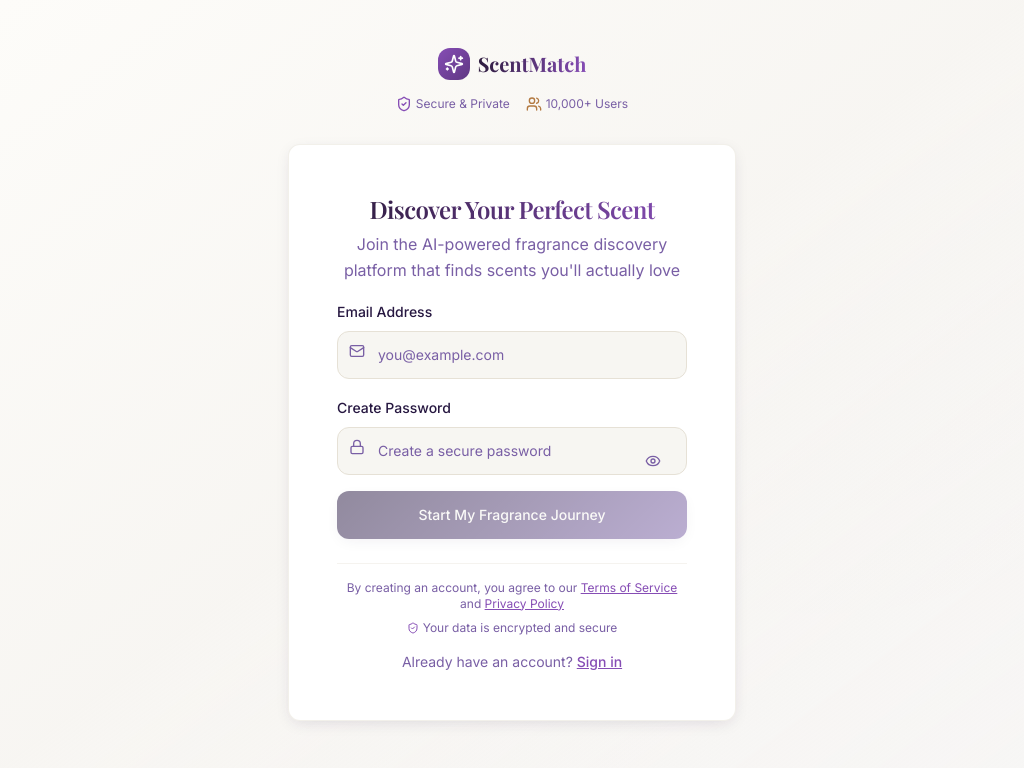
Authentication Integration - Final Validation › 1. Complete User Registration Flow › progressive form validation guides user to success
Expected: the button "Start My Fragrance Journey" is disabled, [337,490,687,538]
Invalid email shows helpful guidance
Type "invalid" into the field labelled "Email Address".
click(512, 354); type("invalid")  # box [337,330,687,378]
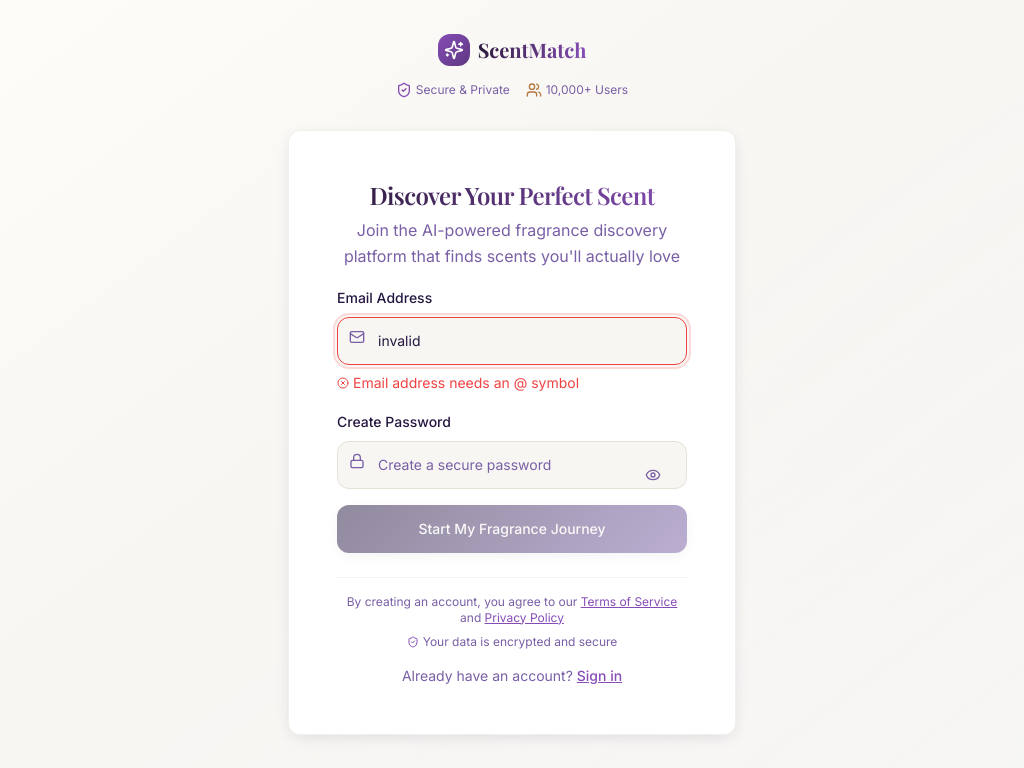
Now the text "Email address needs an @ symbol" is shown, box [353,372,579,392]
Improving email shows progression
Clear the field labelled "Email Address" at {"x": 512, "y": 340}, box [337,316,687,364]
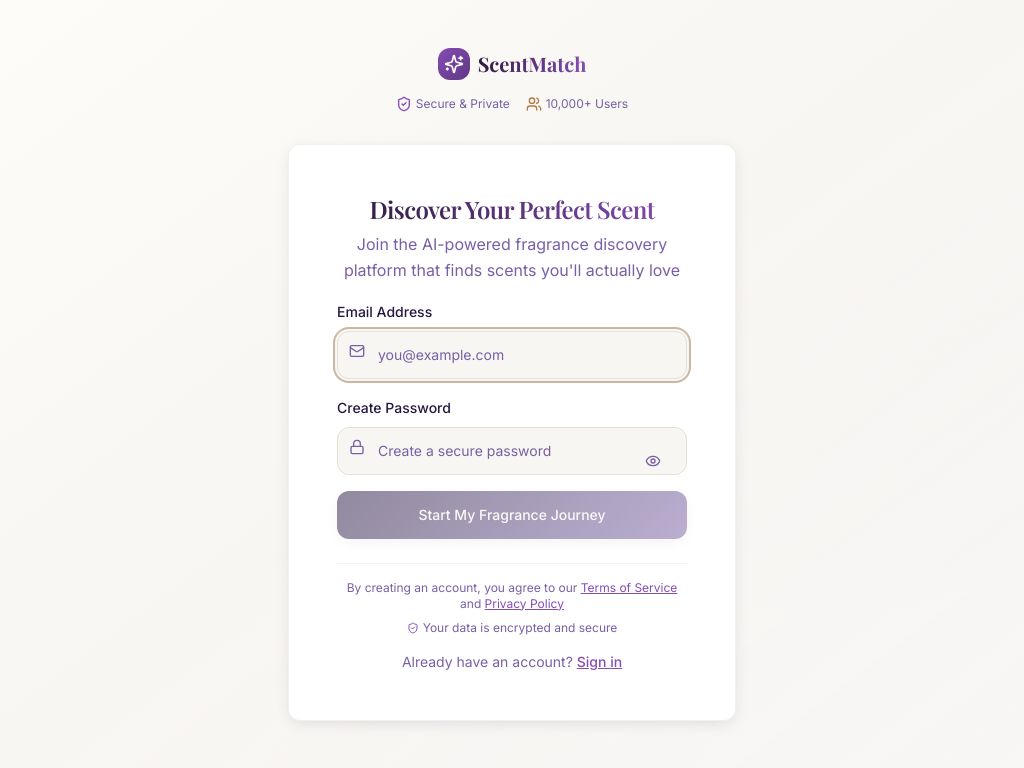
Type "invalid@" into the field labelled "Email Address".
click(512, 354); type("invalid@")  # box [337,330,687,378]
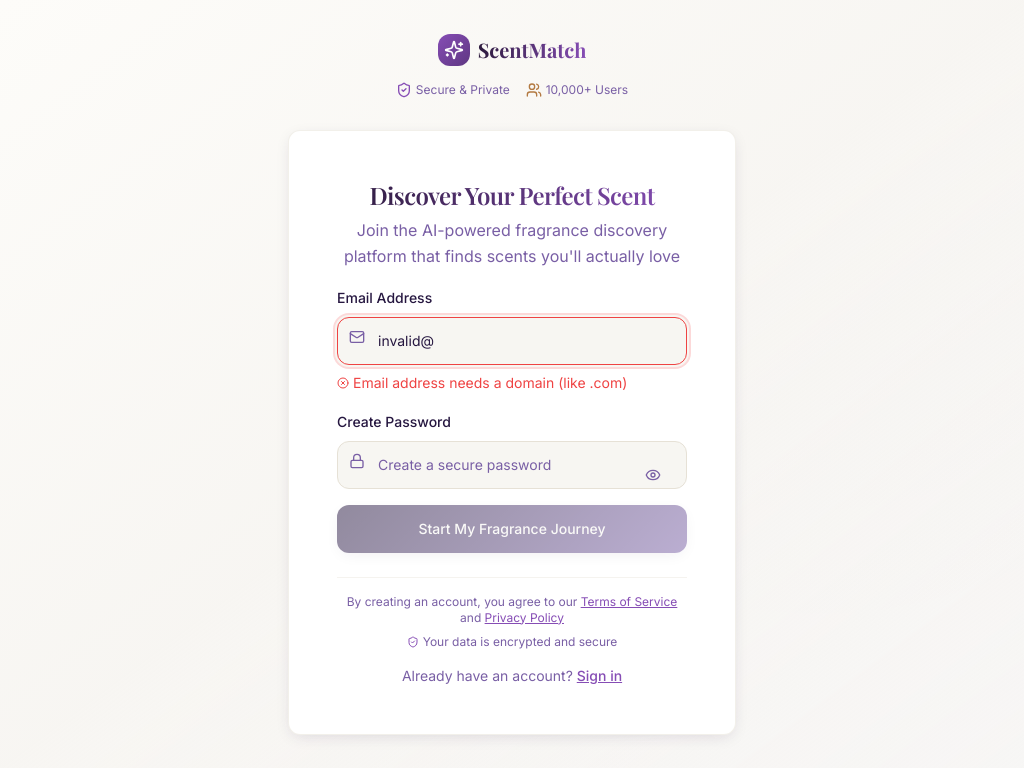
Now the text "Email address needs a domain (like .com)" is shown, box [353,372,627,392]
Valid email shows success indicator
Clear the field labelled "Email Address" at {"x": 512, "y": 340}, box [337,316,687,364]
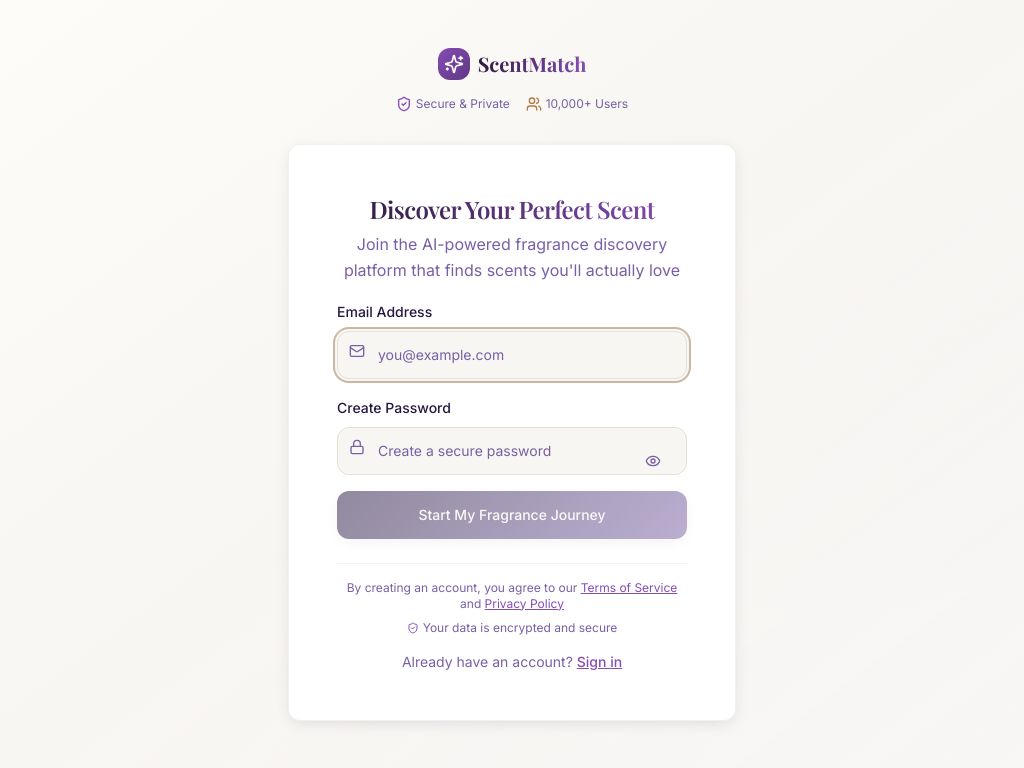
Type "user@example.com" into the field labelled "Email Address".
click(512, 354); type("user@example.com")  # box [337,330,687,378]
Password validation shows requirements
Type "weak" into the password field labelled "Create Password".
click(512, 450); type("weak")  # box [337,426,687,474]
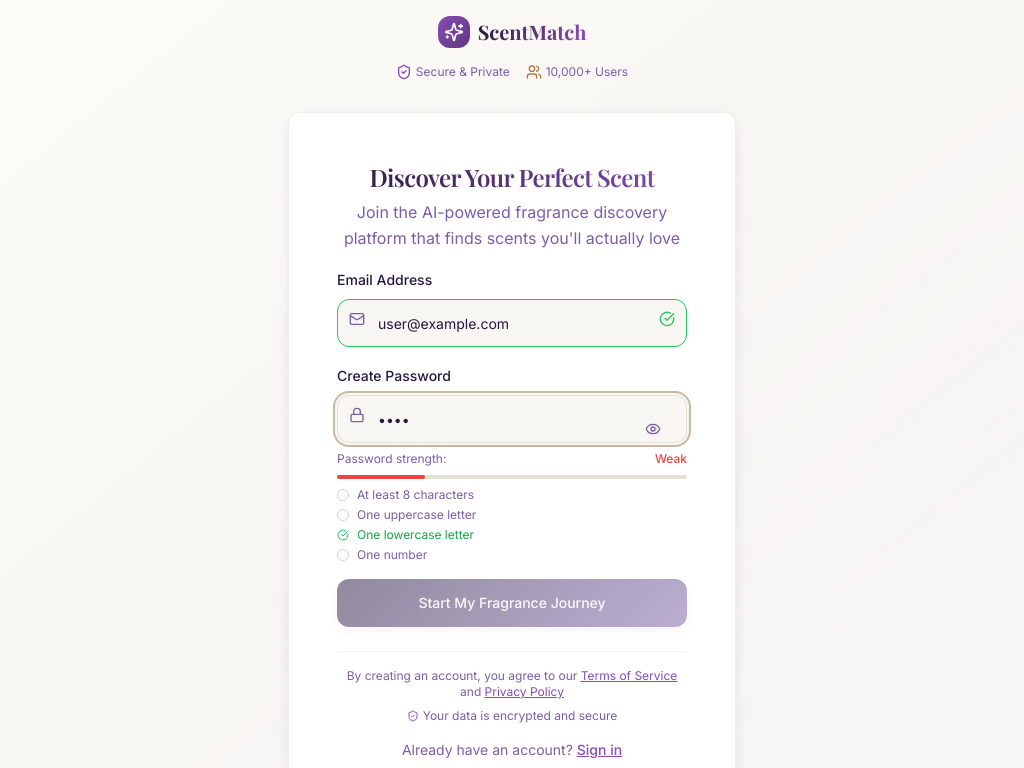
Now the text "Password strength:" is shown, box [337,451,446,467]
Now the text "Weak" is shown, box [655,451,687,467]
Strong password enables submission
Type "StrongPassword123" into the password field labelled "Create Password".
click(512, 419); type("StrongPassword123")  # box [337,395,687,443]
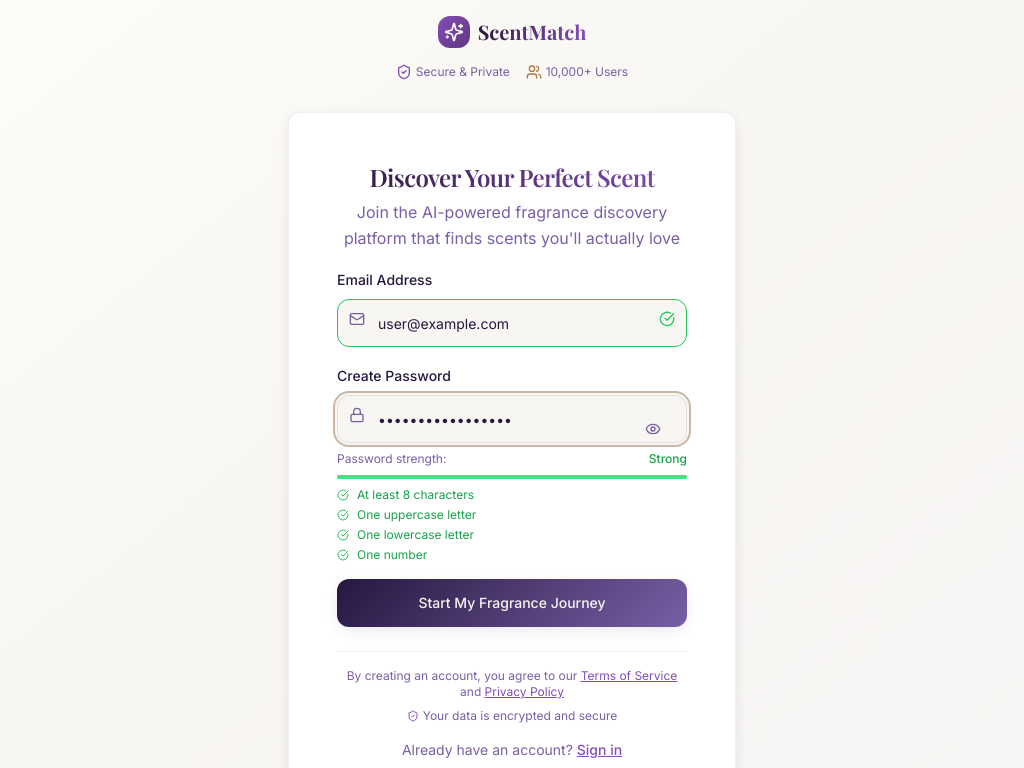
Now the text "Strong" is shown, box [649,451,687,467]
Now the button "Start My Fragrance Journey" is enabled, box [337,579,687,627]
